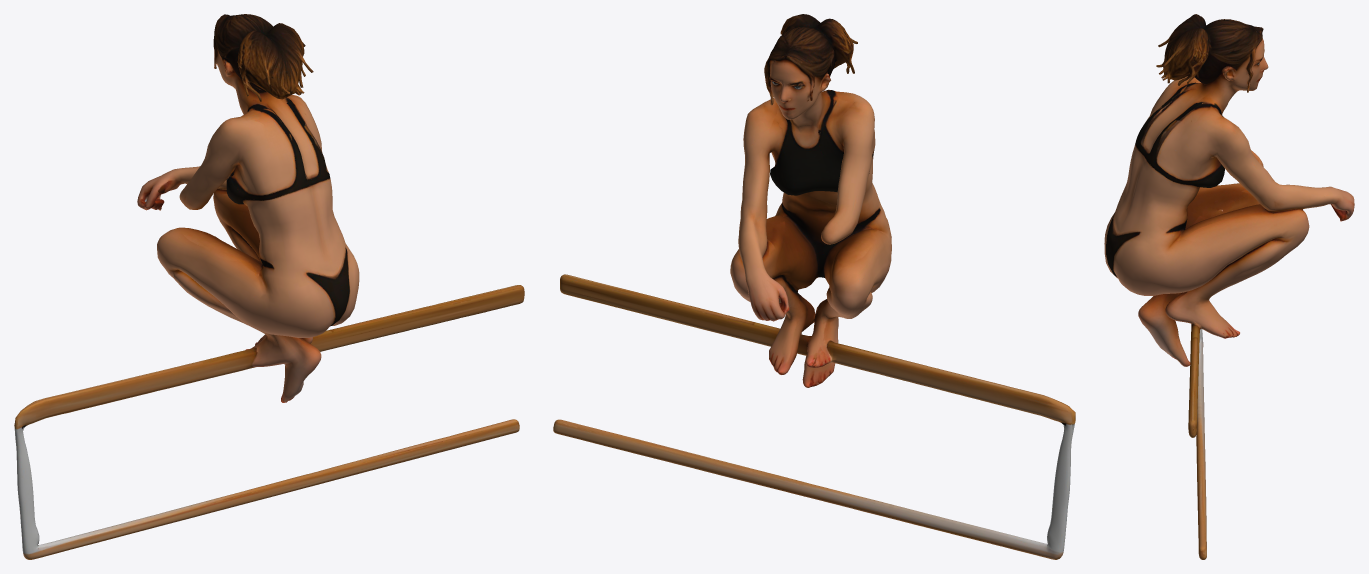
The model's file is female_gymnast.glb.
3 renders of one model, left to right at view 1: azimuth 30°, elevation 25°; view 2: azimuth 150°, elevation 25°; view 3: azimuth 270°, elevation 25°, orthographic. The views are drawn at different scales.
Parts seen in each view (by area): view 1: tripo_node_05ee7e56-cd79-4272-9f06-4337981940aa; view 2: tripo_node_05ee7e56-cd79-4272-9f06-4337981940aa; view 3: tripo_node_05ee7e56-cd79-4272-9f06-4337981940aa.
Part boxes in pixels (x1=…): tripo_node_05ee7e56-cd79-4272-9f06-4337981940aa: x1=14, y1=14, x2=524, y2=559; tripo_node_05ee7e56-cd79-4272-9f06-4337981940aa: x1=553, y1=14, x2=1075, y2=559; tripo_node_05ee7e56-cd79-4272-9f06-4337981940aa: x1=1104, y1=14, x2=1354, y2=559.
Size of the model in its own units: 1.26 by 1.13 by 0.5908.
Materials: 1 (1 with a texture image).
